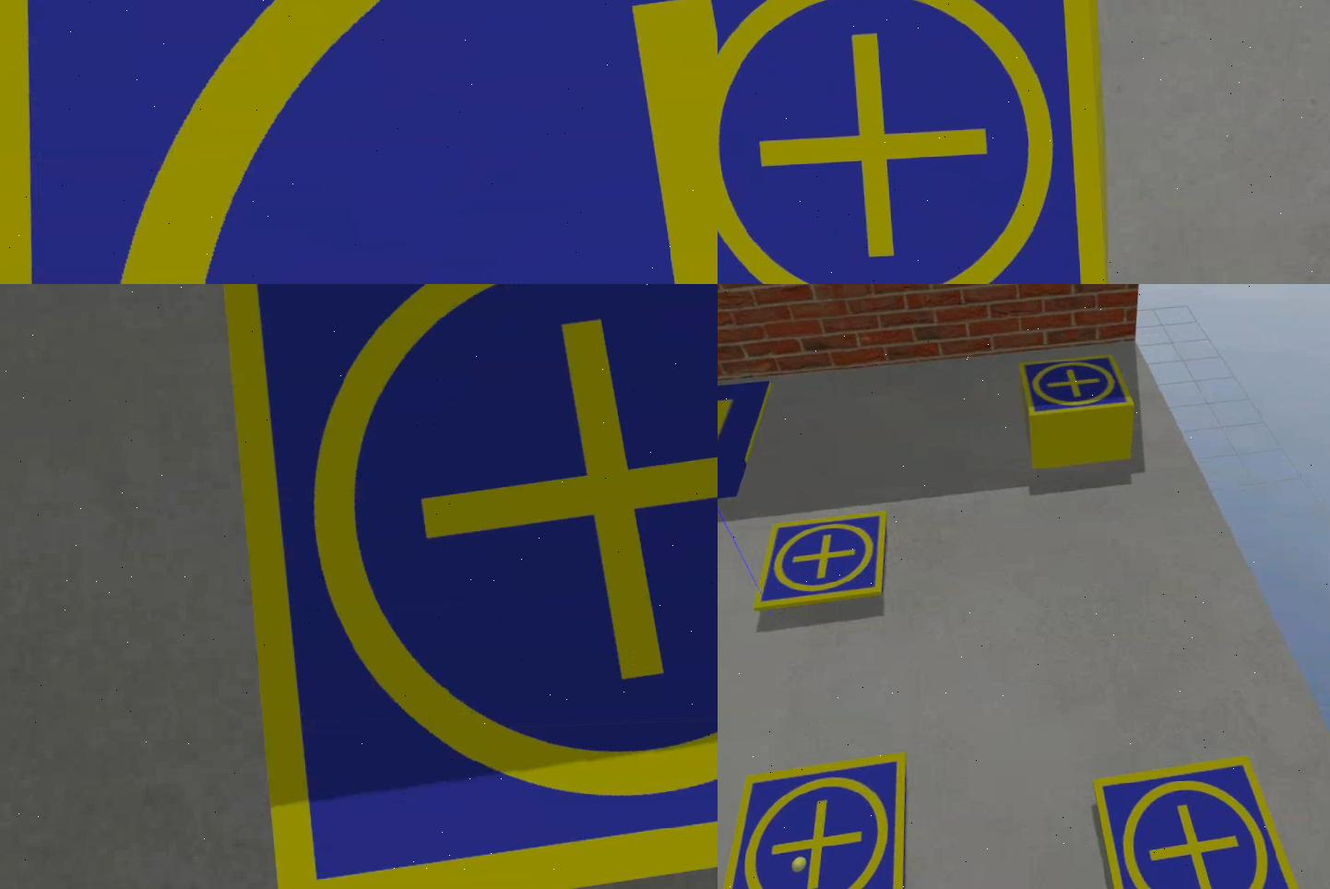large_base: (718, 383, 776, 516)
small_base: (214, 285, 718, 889), (1, 1, 718, 285), (718, 1, 1110, 285), (1093, 753, 1297, 889), (718, 758, 914, 889), (750, 510, 893, 613), (1020, 353, 1139, 420)
